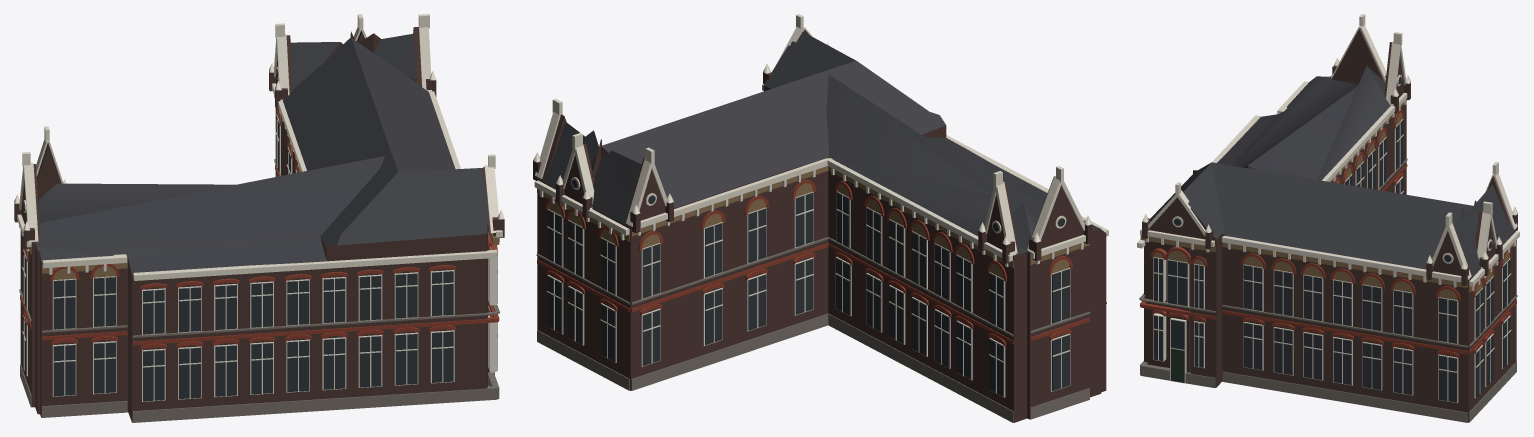
The model's file is school-marnixstraat-2.glb.
3 renders of one model, left to right at view 1: azimuth 30°, elevation 25°; view 2: azimuth 150°, elevation 25°; view 3: azimuth 270°, elevation 25°, orthographic. The views are drawn at different scales.
Visible parts, largest first — view 1: school-marnixstraat-2; view 2: school-marnixstraat-2; view 3: school-marnixstraat-2.
Boxes of the visible parts, <box> form: school-marnixstraat-2: <box>14,14,504,422</box>; school-marnixstraat-2: <box>533,14,1108,422</box>; school-marnixstraat-2: <box>1137,14,1519,422</box>.
Bounding box in the file's own units: 35.28 × 16.8 × 27.69.
